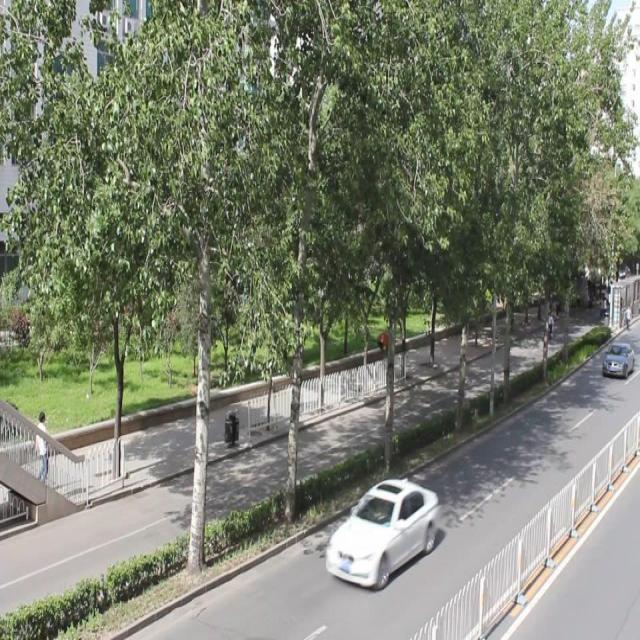car: (328, 482, 445, 590), (602, 339, 634, 380)
